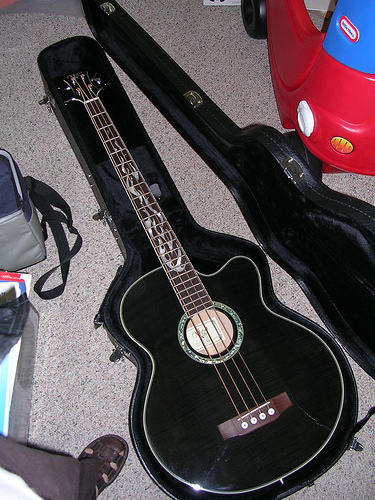guitar: (56, 67, 348, 495)
